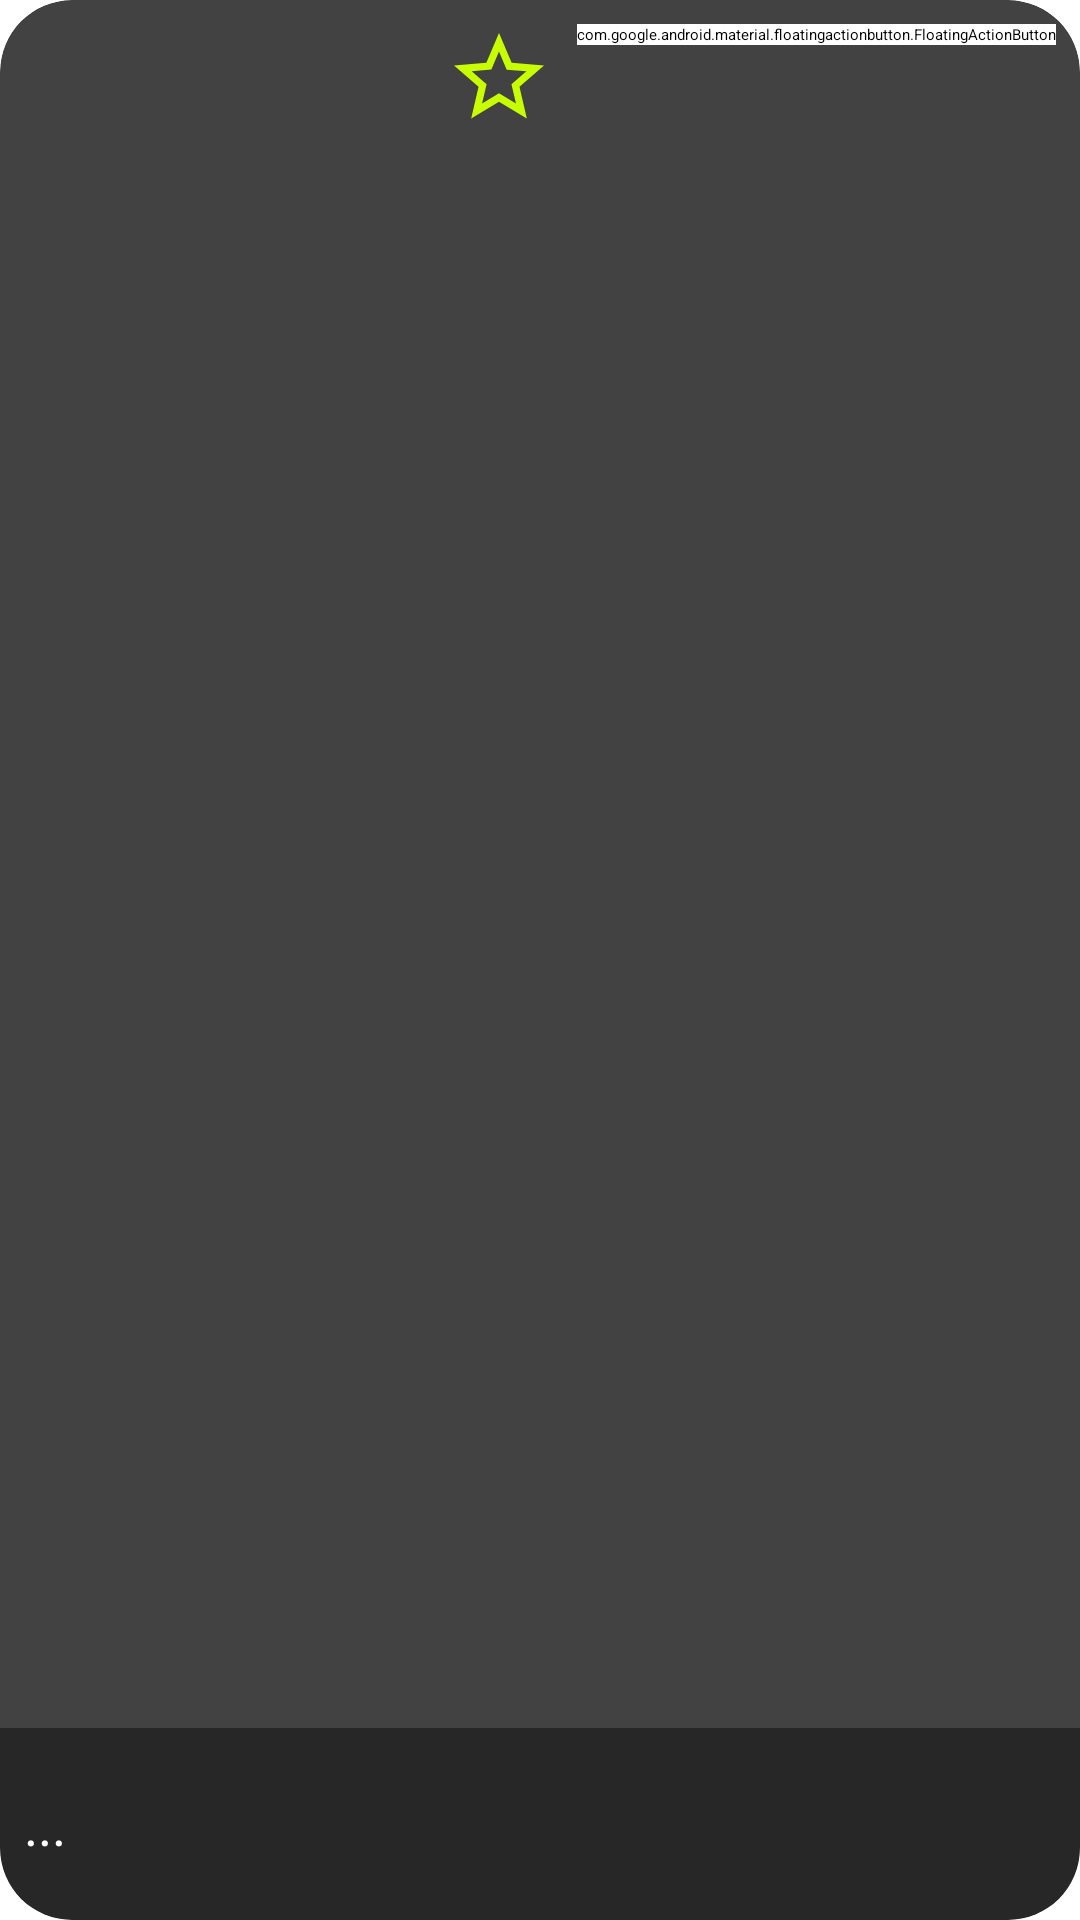

Icon bounding boxes for this 1080px x 1920px phone screenshot, format [left=x1, top=y1, right=x2, bottom=y2]:
Add to favorites: [left=454, top=33, right=544, bottom=119]
